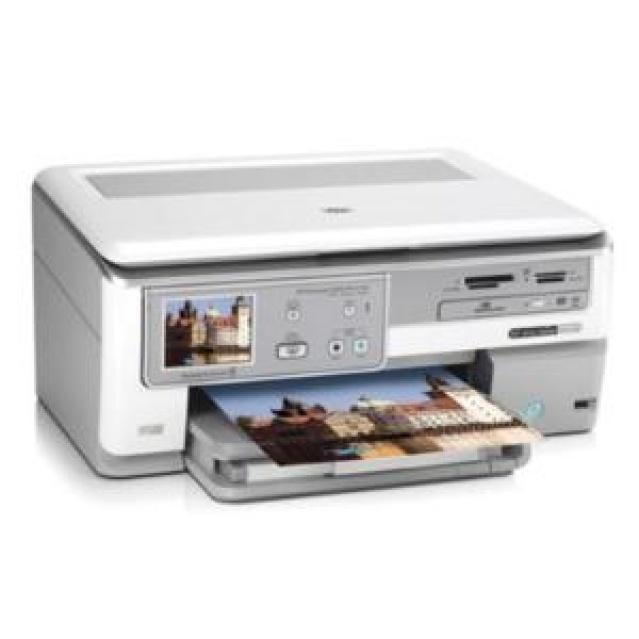Printer: (30, 148, 612, 503)
